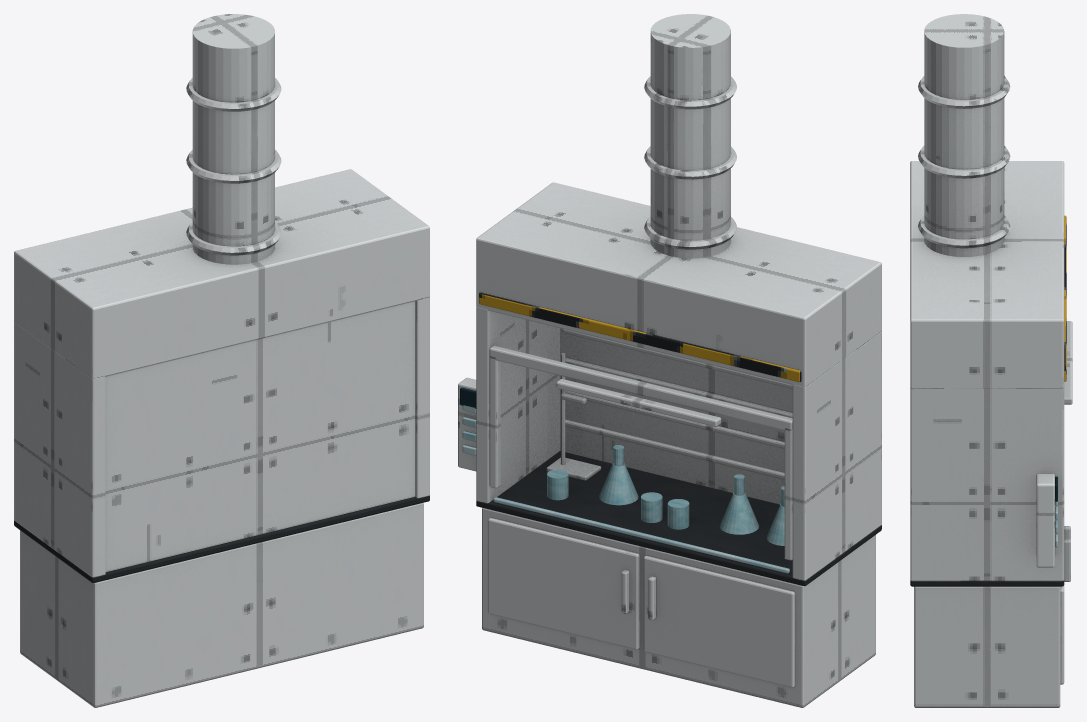
File: base_fume_hood.glb
3 renders of one model, left to right at view 1: azimuth 30°, elevation 25°; view 2: azimuth 150°, elevation 25°; view 3: azimuth 270°, elevation 25°, orthographic. The views are drawn at different scales.
Parts seen in each view (by area): view 1: base_fume_hood.006; view 2: base_fume_hood.006; view 3: base_fume_hood.006.
Boxes of the visible parts, x1=… form: base_fume_hood.006: x1=14, y1=14, x2=429, y2=707; base_fume_hood.006: x1=458, y1=14, x2=881, y2=707; base_fume_hood.006: x1=910, y1=14, x2=1072, y2=707.
Bounding box in the file's own units: 2.63 × 4.3 × 1.06.
7 materials, 7 textured.
